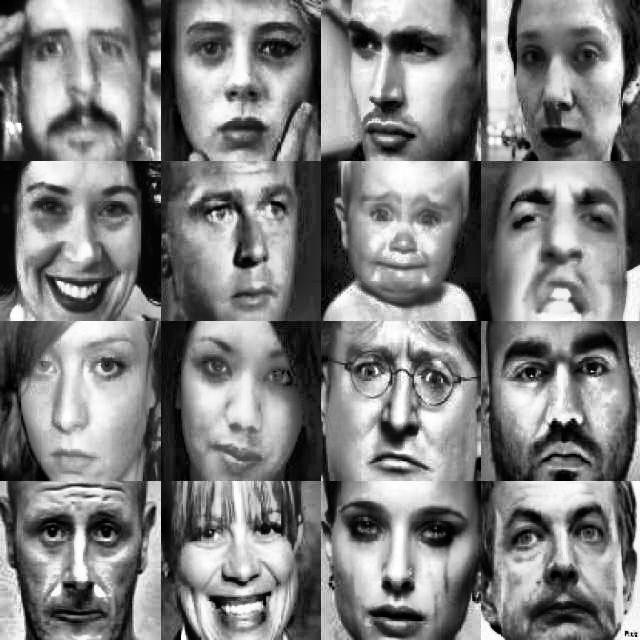angry: (333, 0, 471, 160), (487, 168, 624, 324)
fear: (326, 335, 470, 477)
happy: (169, 325, 300, 485), (13, 167, 144, 319), (175, 491, 299, 640)
neutral: (168, 3, 311, 160), (6, 1, 150, 152), (489, 334, 633, 485), (8, 335, 148, 477), (510, 5, 627, 159), (184, 159, 296, 316), (493, 500, 617, 640), (18, 500, 132, 636)
sad: (323, 478, 474, 640), (334, 182, 465, 302)
